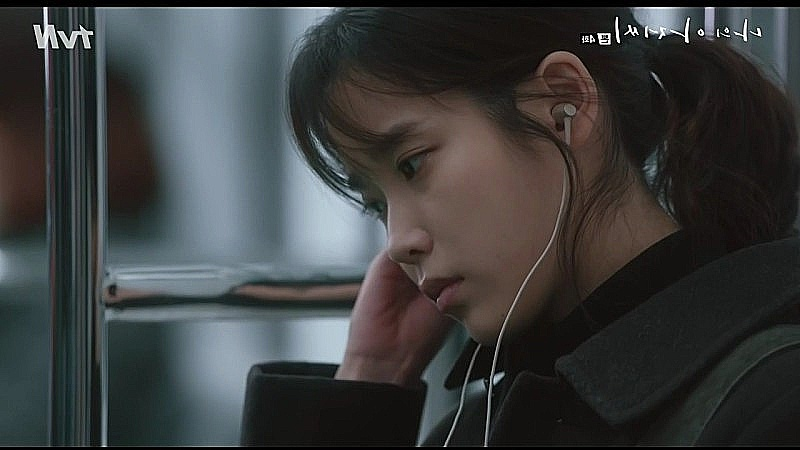earphone: (532, 51, 598, 154)
